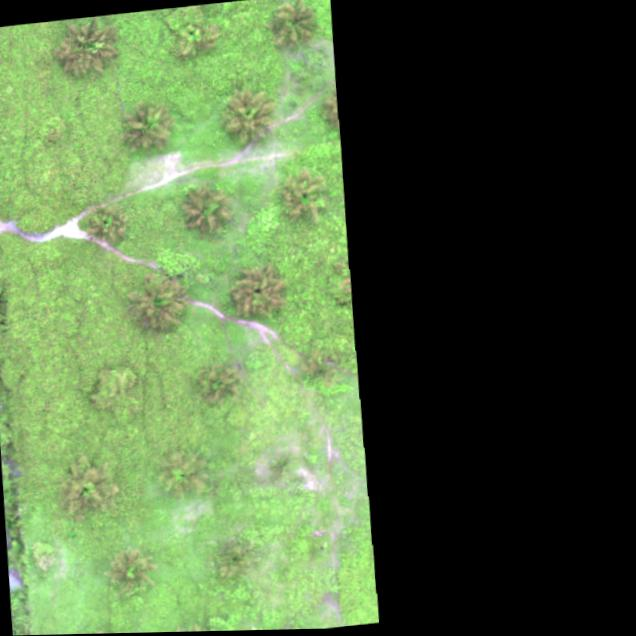oilpalm: (51, 15, 123, 79), (174, 178, 236, 242), (216, 85, 280, 145), (262, 0, 326, 53), (122, 102, 177, 153), (82, 201, 130, 246)
